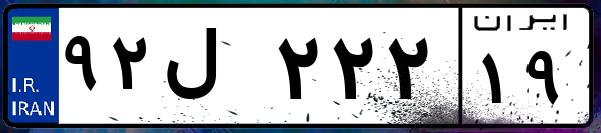1: (475, 38, 525, 113)
2: (270, 28, 330, 110), (385, 28, 445, 110), (330, 28, 385, 110), (110, 28, 158, 98)
9: (57, 26, 110, 100), (525, 38, 570, 115)
ل: (158, 20, 270, 120)
